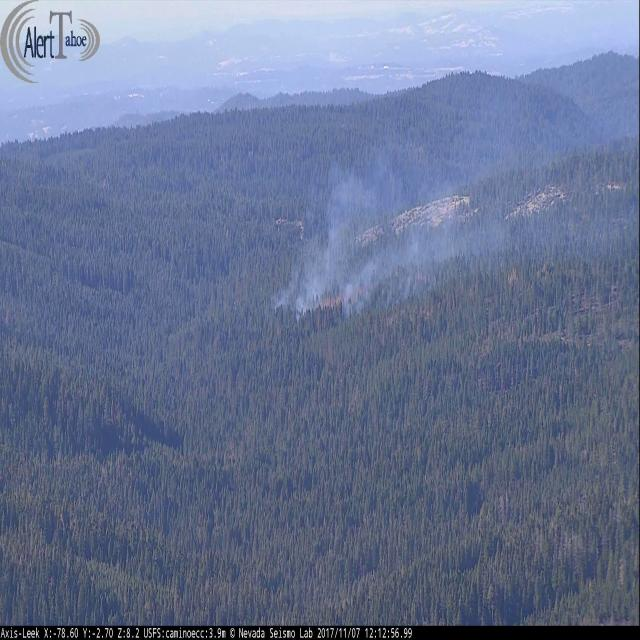smoke: (271, 61, 636, 316)
